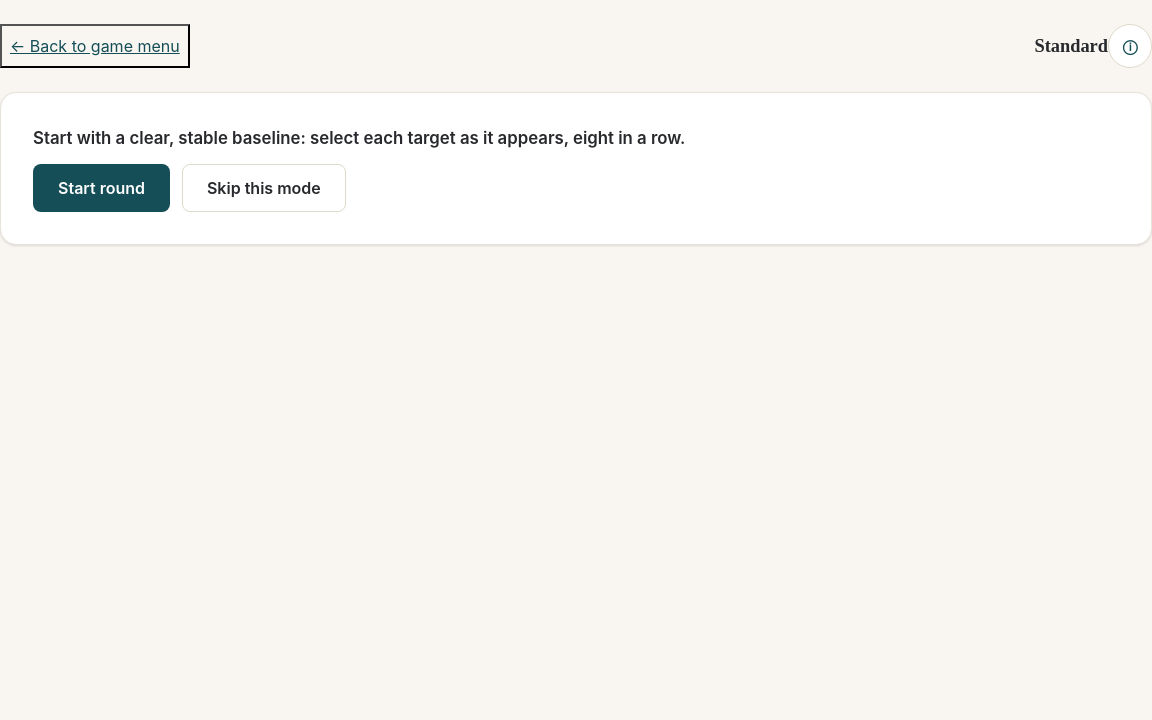
Scenario: Exit confirmation › Keep playing closes the dialog, resumes the round, and returns focus to the button that opened it
Click the button "Start round" at (102, 188), box left=33, top=164, right=170, bottom=212
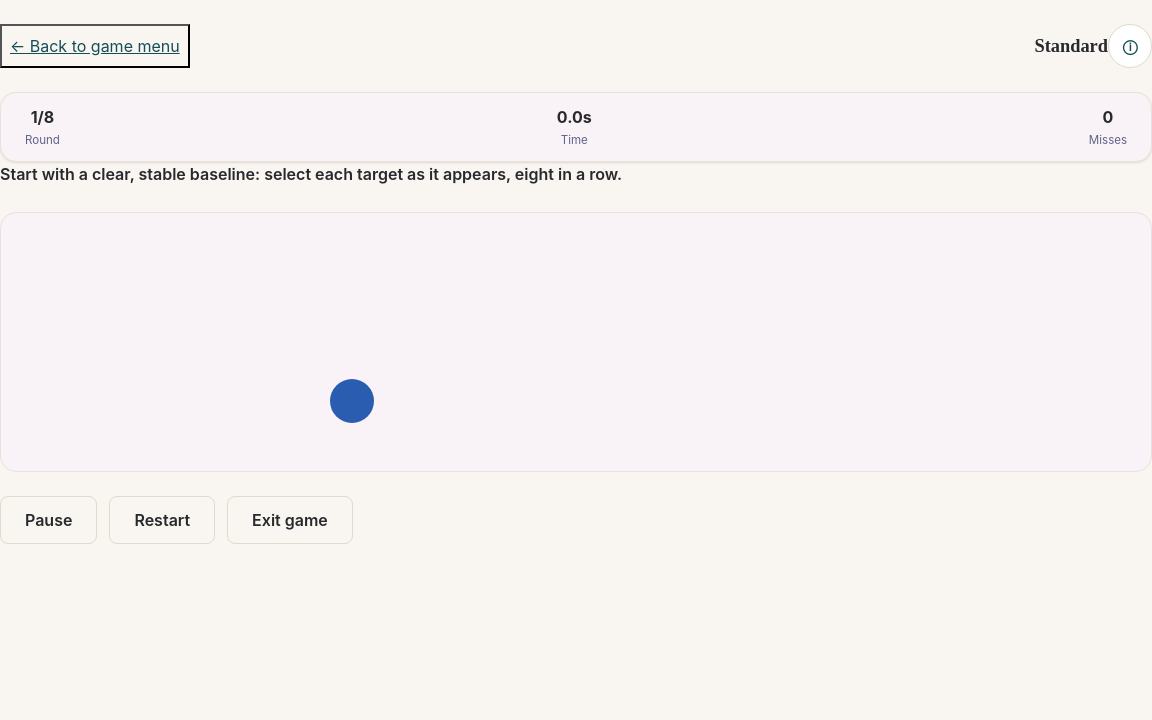
Click the button "Exit game" at (290, 520), box left=227, top=496, right=353, bottom=544
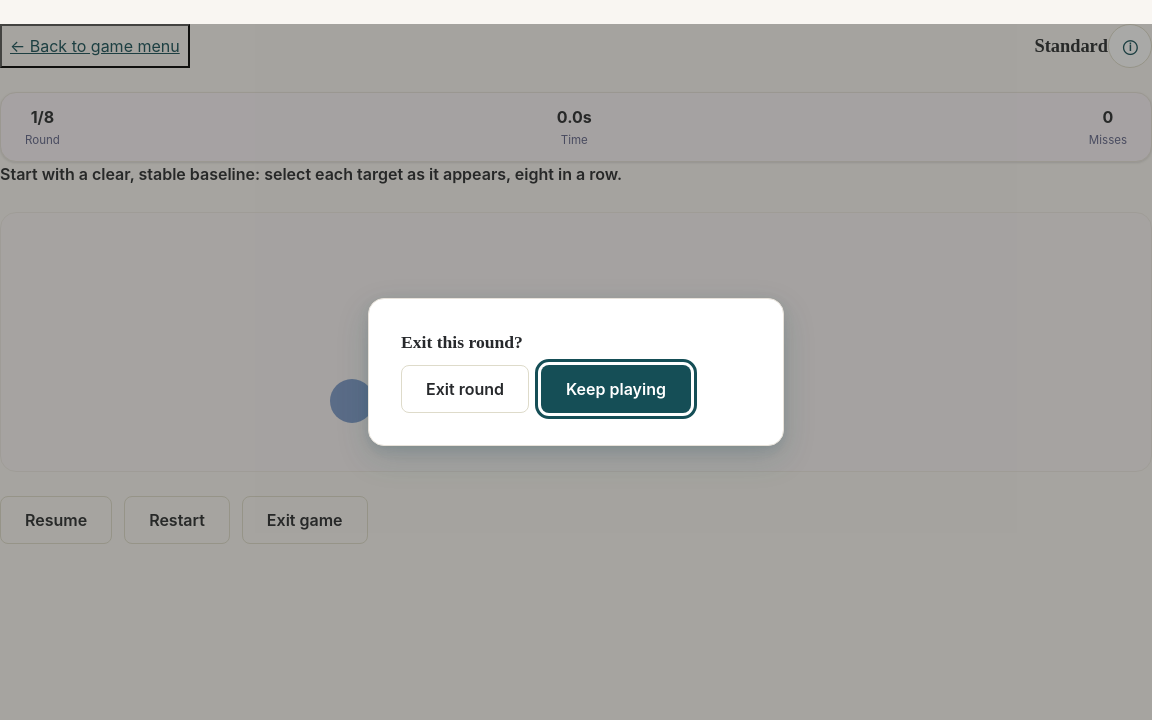
Check: the heading "Exit this round?" is shown, box left=401, top=332, right=523, bottom=352
Check: the button "Resume" is shown, box left=0, top=496, right=112, bottom=544
Click the button "Keep playing" at (616, 389), box left=541, top=365, right=691, bottom=413
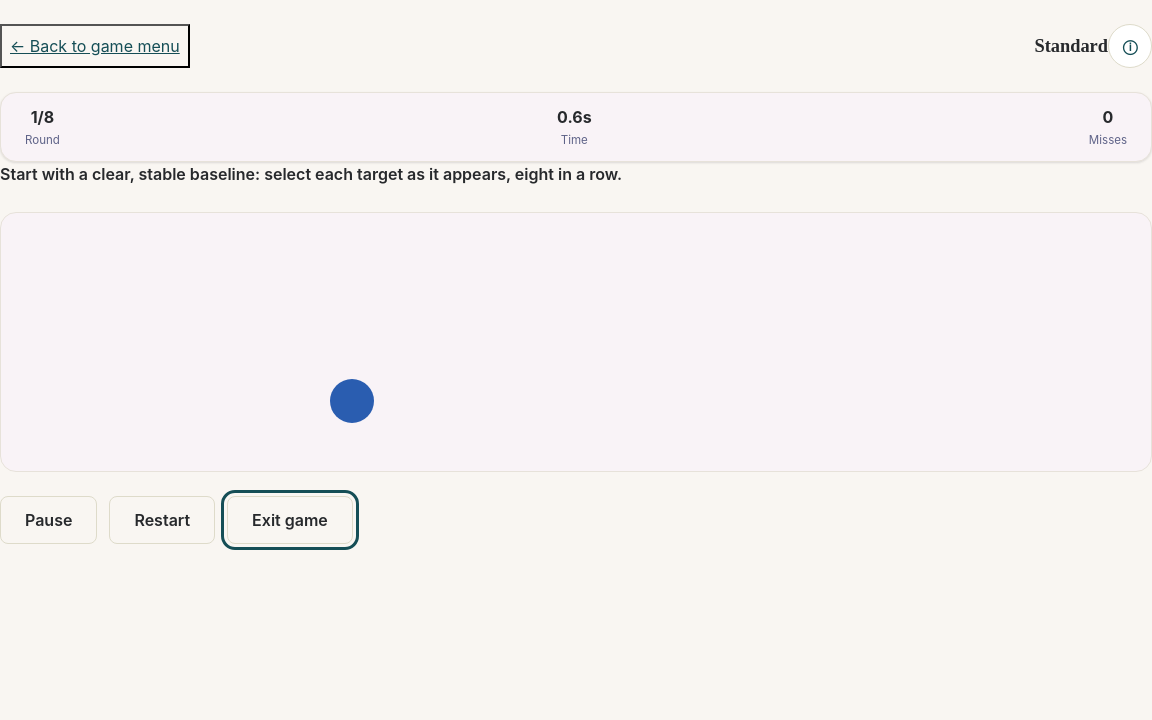
Check: the heading "Exit this round?" is gone
Check: the button "Pause" is shown, box left=0, top=496, right=97, bottom=544
